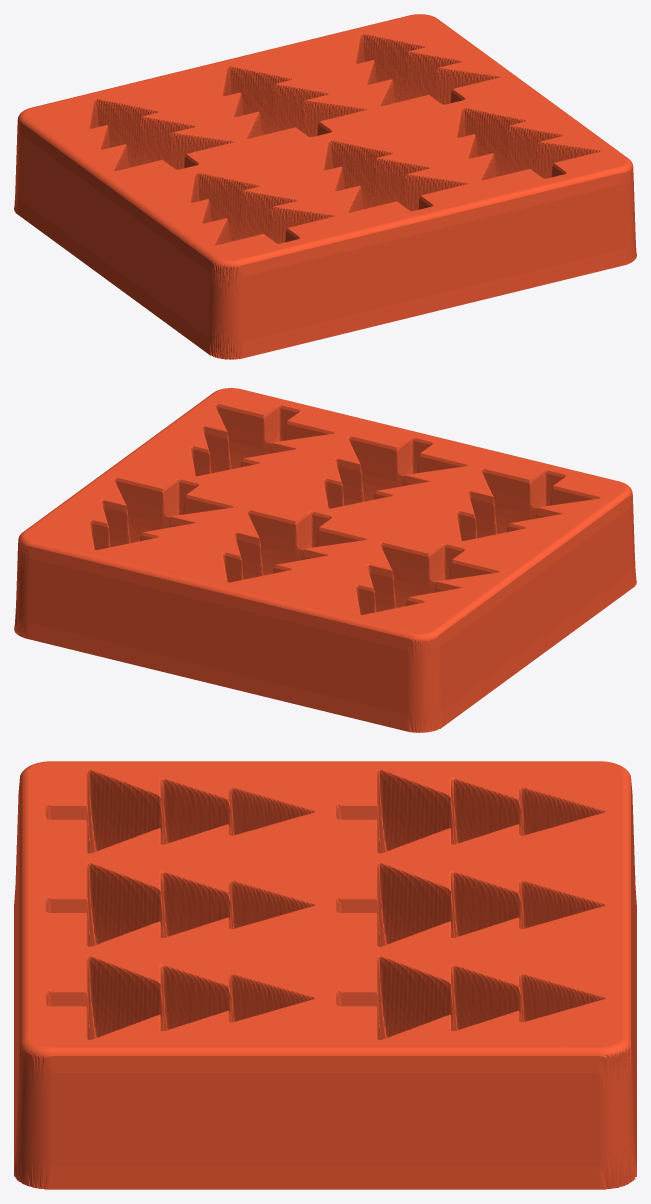
File: mold.glb
3 renders of one model, top to bottom at view 1: azimuth 30°, elevation 25°; view 2: azimuth 150°, elevation 25°; view 3: azimuth 270°, elevation 25°, orthographic. The views are drawn at different scales.
Visible parts, largest first — view 1: geometry_0; view 2: geometry_0; view 3: geometry_0.
Boxes of the visible parts, <box> form: geometry_0: <box>14,14,636,359</box>; geometry_0: <box>14,388,636,732</box>; geometry_0: <box>14,761,636,1189</box>.
Bounding box in the file's own units: 0.1687 × 0.036 × 0.1492.
